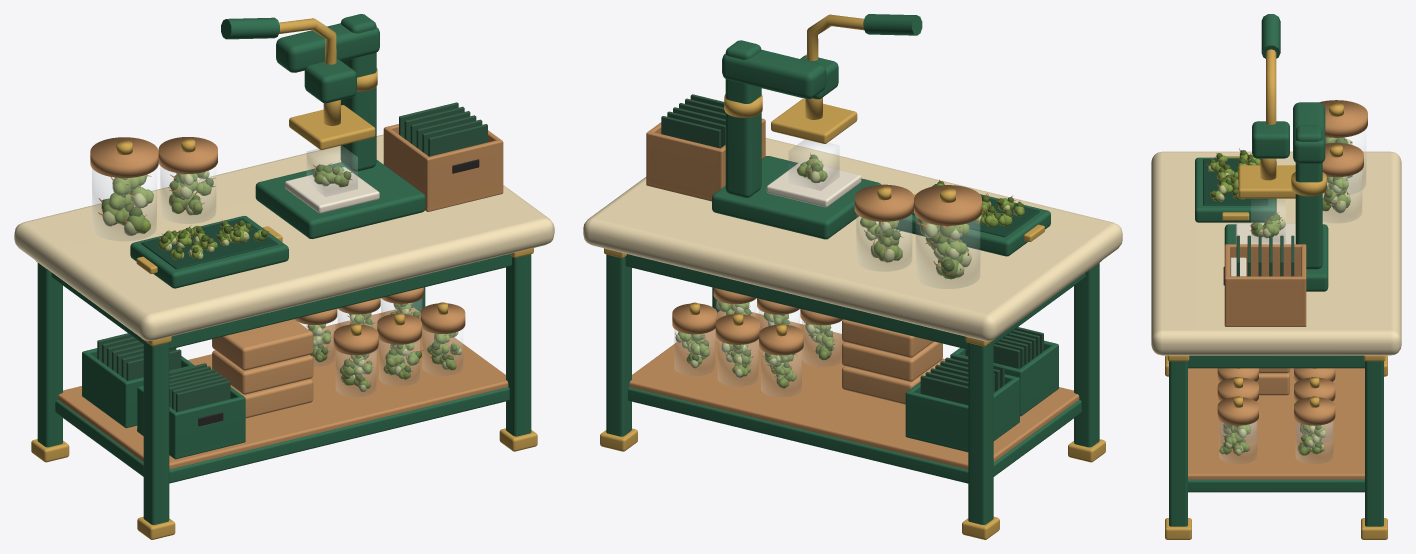
File: pack_bench_tier2.glb
3 renders of one model, left to right at view 1: azimuth 30°, elevation 25°; view 2: azimuth 150°, elevation 25°; view 3: azimuth 270°, elevation 25°, orthographic. The views are drawn at different scales.
Visible parts, largest first — view 1: Top, Shelf, ShelfRail, PressBase, Leg-1-1, ApronF, Leg1-1, Leg-11, JarA, TopCrateWall0, LowBox2, Tray (+28 smaller); view 2: Top, Shelf, ShelfRail, PressBase, Leg-11, ApronB, Leg11, Leg-1-1, PressColumn, JarA, TopCrateWall1, PressArm (+25 smaller); view 3: Top, Shelf, TopCrateWall3, Leg1-1, Leg11, PressColumn, ShelfRail, ApronE, JarB, Tray, PressPlate, TopCrateWall2 (+26 smaller).
Part boxes in pixels (x1,y1,x2,y2): Top: [14, 134, 554, 341]; Shelf: [58, 307, 508, 469]; ShelfRail: [55, 387, 509, 483]; PressBase: [255, 160, 425, 238]; Leg-1-1: [143, 340, 169, 524]; ApronF: [169, 253, 511, 349]; Leg1-1: [506, 254, 531, 436]; Leg-11: [37, 263, 62, 447]; JarA: [92, 169, 156, 240]; TopCrateWall0: [425, 139, 503, 209]; LowBox2: [212, 319, 313, 370]; Tray: [130, 216, 288, 288]; Top: [583, 138, 1122, 341]; Shelf: [629, 310, 1079, 469]; ShelfRail: [628, 387, 1081, 483]; PressBase: [712, 156, 880, 239]; Leg-11: [968, 340, 993, 524]; ApronB: [625, 254, 968, 349]; Leg11: [606, 254, 631, 436]; Leg-1-1: [1074, 263, 1099, 447]; PressColumn: [725, 40, 761, 197]; JarA: [916, 217, 979, 288]; TopCrateWall1: [646, 131, 724, 197]; PressArm: [722, 50, 826, 98]; Top: [1151, 151, 1401, 355]; Shelf: [1188, 368, 1364, 479]; TopCrateWall3: [1224, 276, 1306, 323]; Leg1-1: [1169, 361, 1187, 526]; Leg11: [1365, 361, 1383, 526]; PressColumn: [1295, 125, 1322, 269]; ShelfRail: [1188, 479, 1364, 492]; ApronE: [1188, 355, 1364, 368]; JarB: [1323, 170, 1361, 222]; Tray: [1195, 157, 1276, 222]; PressPlate: [1238, 165, 1295, 198]; TopCrateWall2: [1224, 244, 1306, 276].
Size of the model in its own units: 1.62 by 1.67 by 0.9201.
